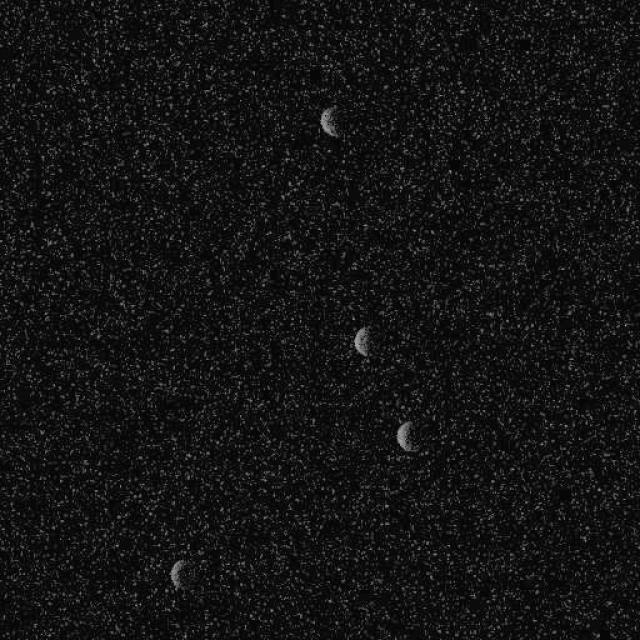D2: (395, 420, 419, 452), (319, 105, 340, 137), (352, 325, 372, 357), (169, 558, 186, 592)
